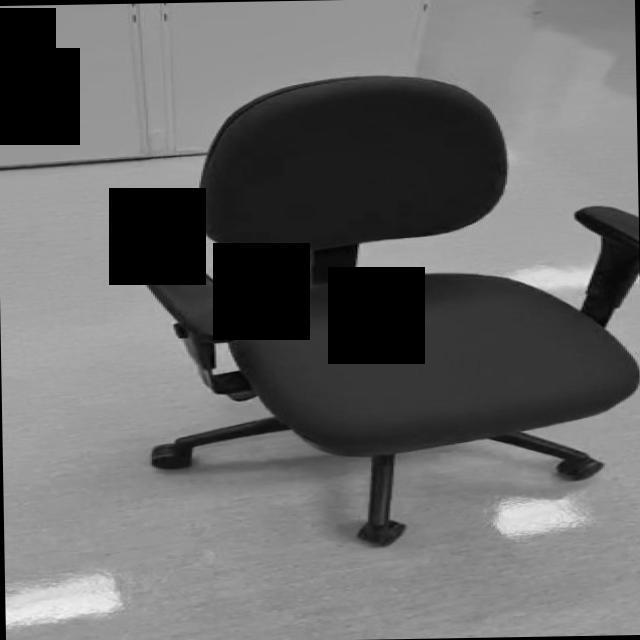chair: (135, 70, 640, 549)
